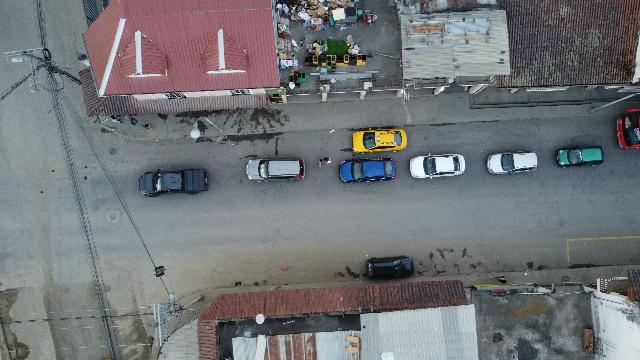Vehiculo: (138, 169, 208, 197), (247, 158, 306, 182), (352, 128, 406, 154), (338, 158, 396, 182), (409, 154, 465, 178), (487, 150, 538, 174), (556, 146, 604, 168), (366, 256, 414, 278), (616, 109, 640, 149)
